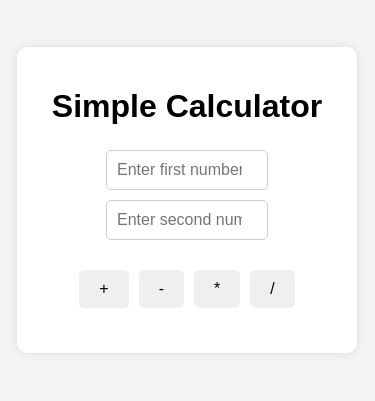
Test case: performs subtraction operation
Step 1. Type "5" into the number field with placeholder "Enter first number" → [187, 170], box top-left (106, 150), bottom-right (268, 190)
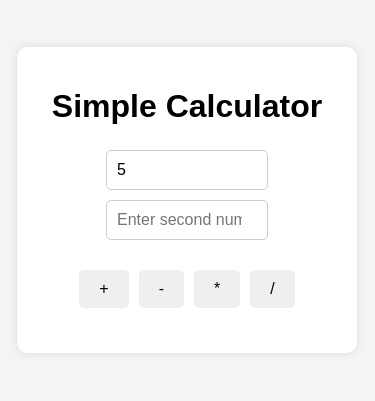
Step 2. Type "3" into the number field with placeholder "Enter second number" → [187, 220], box top-left (106, 200), bottom-right (268, 240)
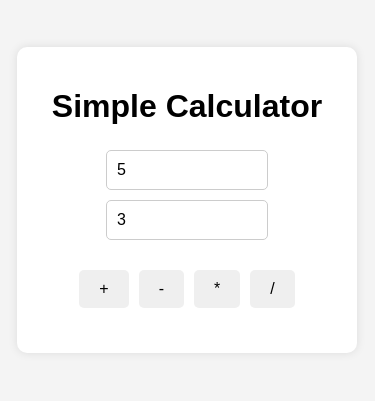
Step 3. Click the button "-" → [161, 289], box top-left (139, 270), bottom-right (184, 308)
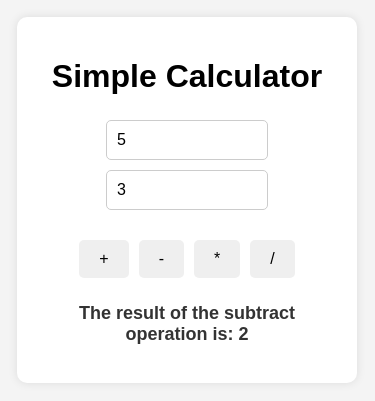
Expected: the text "The result of the subtract operation is: 2" is shown, top-left (79, 303), bottom-right (295, 344)
